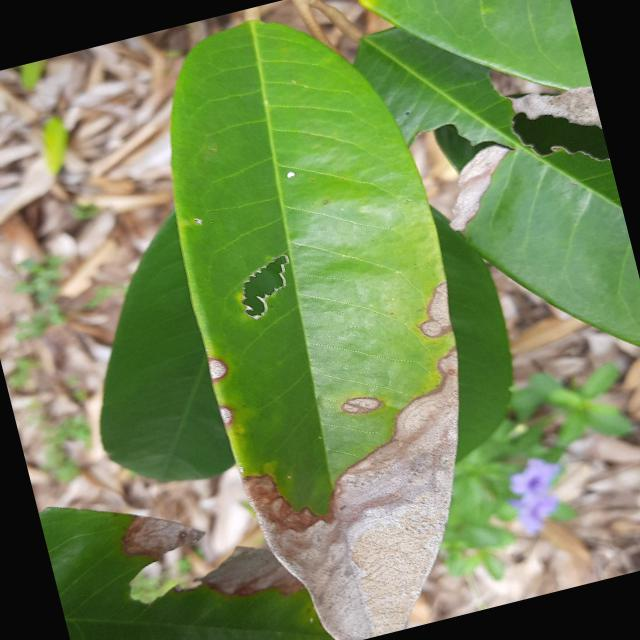Leaf Blight: (108, 0, 538, 639)
